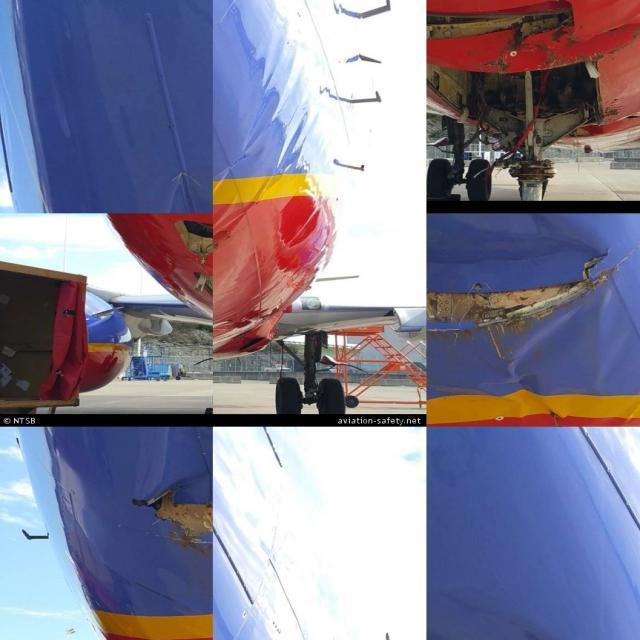crack: (576, 245, 616, 283)
